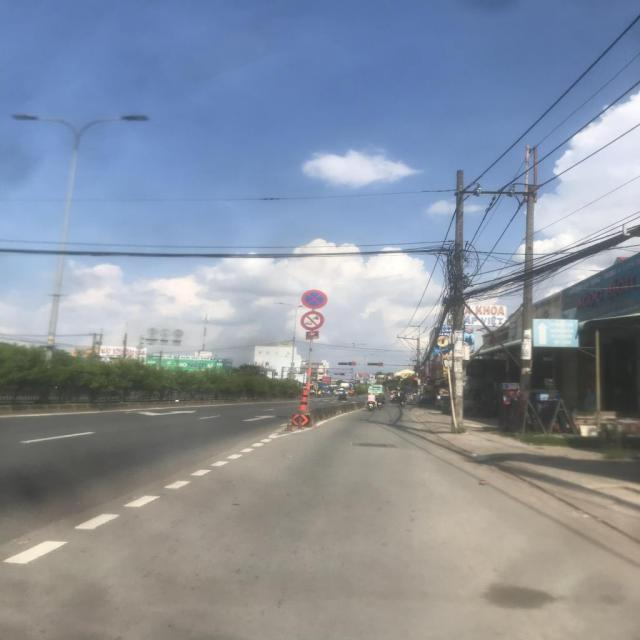cam_dung_xe_va_do_xe: (301, 289, 329, 309)
cam_xe_2_banh_va_xe_3_banh_co_dong_co: (298, 310, 324, 330)
